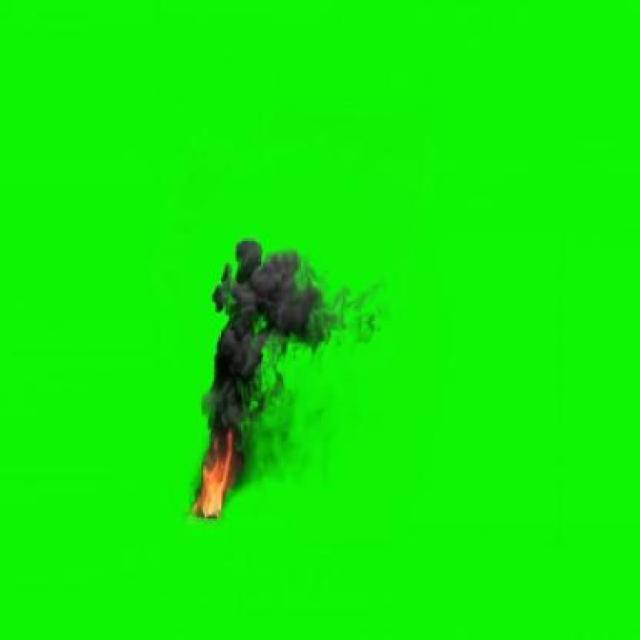Fire: (169, 428, 252, 516)
Smoke: (202, 229, 366, 475)
